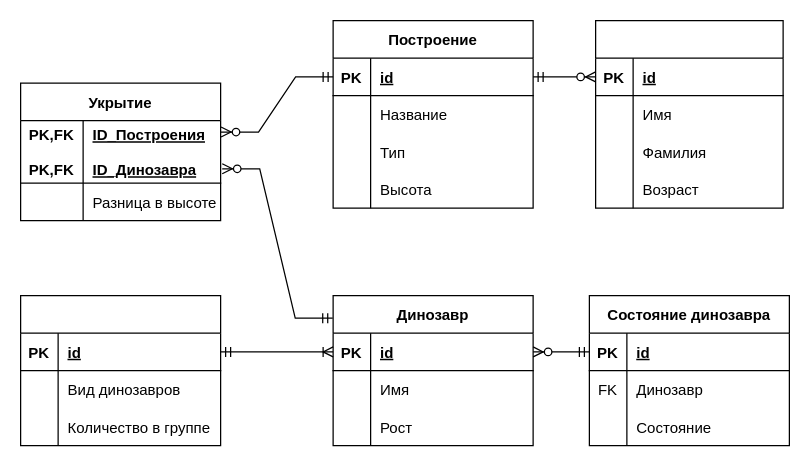
Image size: 810x466. Some labels were removed from this diagram. The shapes that lost their labels are listed below. From the top down, each one's box as (x1, y1, x2, y2) in pixels, then its label:
(594, 19, 783, 208): Человек
(19, 294, 221, 446): Группа динозавров
